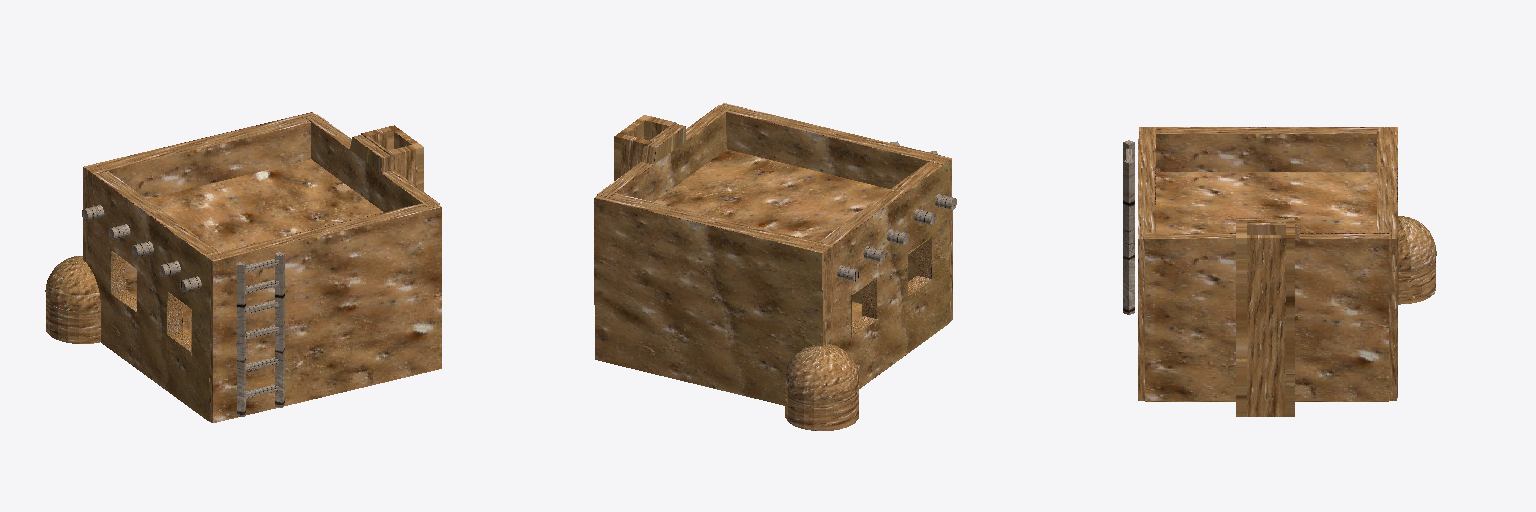
3 views of the same model, side by side, from view 1: azimuth 30°, elevation 25°; view 2: azimuth 150°, elevation 25°; view 3: azimuth 270°, elevation 25° (orthographic).
Parts seen in each view (by area): view 1: pCube5, pCube3, pCube6, pCube4, pCube2, pSphere1, pCube7, pCylinder8, pCylinder6, pCylinder7; view 2: pCube4, pCube3, pCube6, pCube5, pCube2, pSphere1, pCylinder8, pCube7; view 3: pCube2, pCube6, pCube7, pCube3, pCube4, pCube5, pCylinder6, pSphere1, pCylinder8.
Boxes of the visible parts, x1=… form: pCube5: x1=204, y1=203, x2=441, y2=422; pCube3: x1=88, y1=171, x2=217, y2=421; pCube6: x1=147, y1=159, x2=382, y2=251; pCube4: x1=83, y1=112, x2=315, y2=311; pCube2: x1=305, y1=114, x2=439, y2=211; pSphere1: x1=45, y1=256, x2=100, y2=311; pCube7: x1=361, y1=125, x2=423, y2=191; pCylinder8: x1=46, y1=300, x2=100, y2=343; pCylinder6: x1=275, y1=252, x2=284, y2=407; pCylinder7: x1=237, y1=262, x2=245, y2=416; pCube4: x1=594, y1=193, x2=832, y2=405; pCube3: x1=819, y1=161, x2=949, y2=388; pCube6: x1=655, y1=149, x2=889, y2=241; pCube5: x1=722, y1=103, x2=952, y2=321; pCube2: x1=597, y1=105, x2=730, y2=201; pSphere1: x1=785, y1=344, x2=858, y2=399; pCylinder8: x1=785, y1=385, x2=858, y2=430; pCube7: x1=614, y1=115, x2=676, y2=180; pCube2: x1=1145, y1=218, x2=1388, y2=400; pCube6: x1=1156, y1=172, x2=1376, y2=232; pCube7: x1=1236, y1=222, x2=1294, y2=416; pCube3: x1=1156, y1=127, x2=1377, y2=171; pCube4: x1=1377, y1=127, x2=1397, y2=400; pCube5: x1=1138, y1=127, x2=1155, y2=400; pCylinder6: x1=1123, y1=159, x2=1134, y2=314; pSphere1: x1=1398, y1=216, x2=1436, y2=271; pCylinder8: x1=1398, y1=260, x2=1435, y2=304.
Bounding box in the file's own units: 22.45 × 13.14 × 20.86.
Materials: 2 (2 with a texture image).